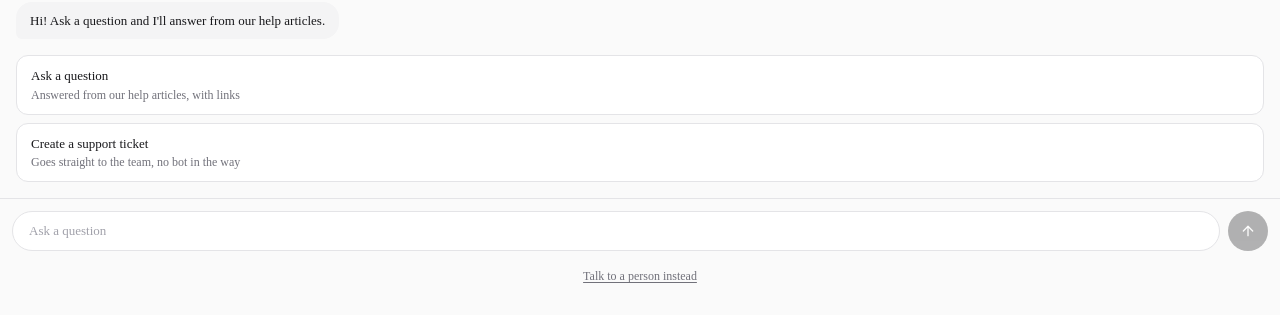
Test: Ask escalation offer › does not offer to escalate when the model just clarifies or greets
Type "It's not working" into the field with placeholder "Ask a question". click: (616, 231)
box: [12,211,1220,251]
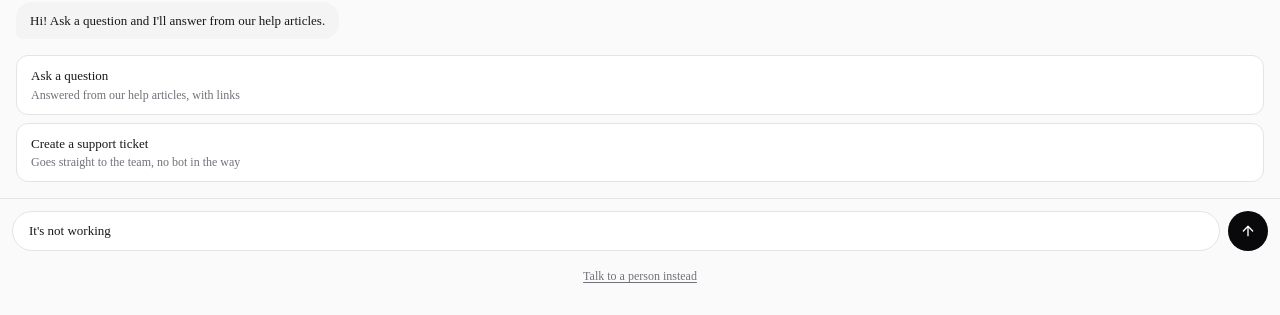
Click the button named "Ask". click: click(1248, 231)
box: [1228,211,1268,251]
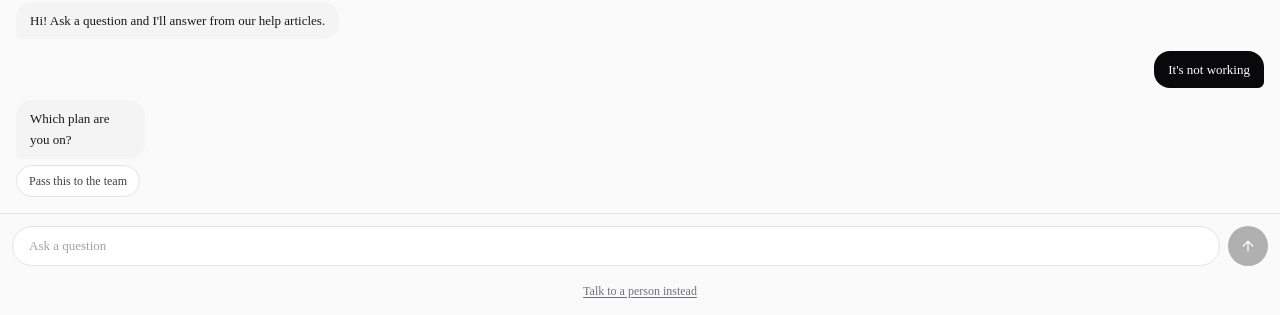
Result: the text "Which plan are you on?" is shown at [30,111,113,147]
